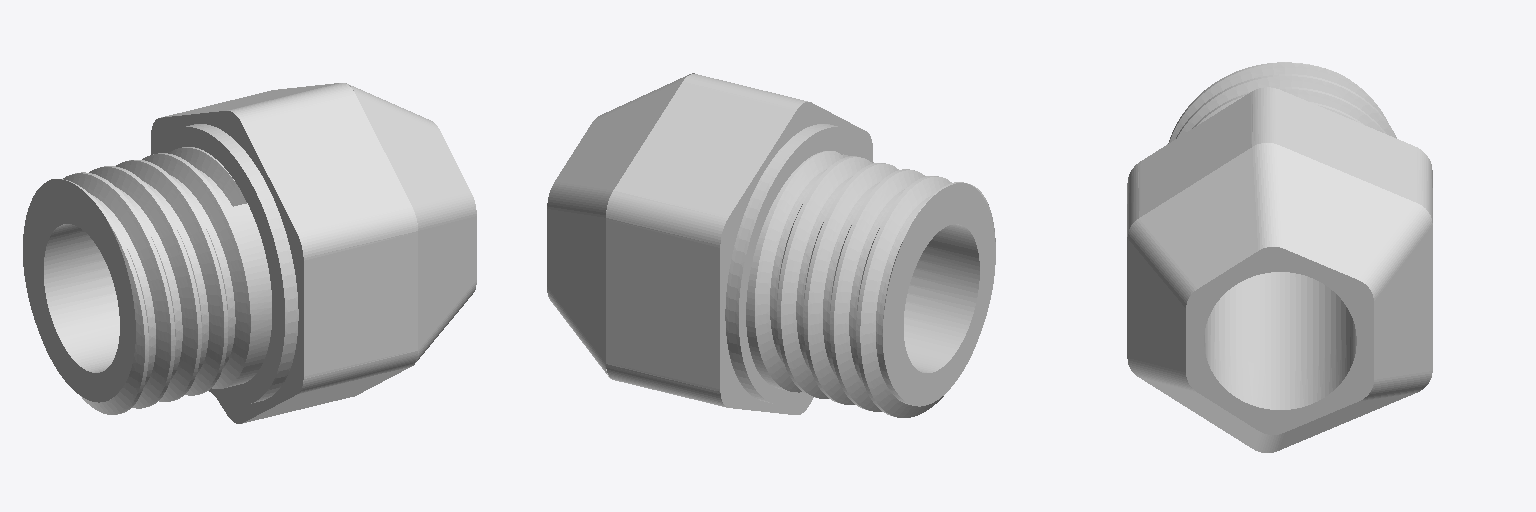
Rendered from screw_TOP3.obj.
3 renders of one model, left to right at view 1: azimuth 30°, elevation 25°; view 2: azimuth 150°, elevation 25°; view 3: azimuth 270°, elevation 25°, orthographic.
Parts seen in each view (by area): view 1: screw_TOP3; view 2: screw_TOP3; view 3: screw_TOP3.
Part boxes in pixels (x1,y1,x2,y2): screw_TOP3: (23,83,476,423); screw_TOP3: (547,73,995,417); screw_TOP3: (1127,62,1432,452).
Bounding box in the file's own units: 39.5 × 33.68 × 30.